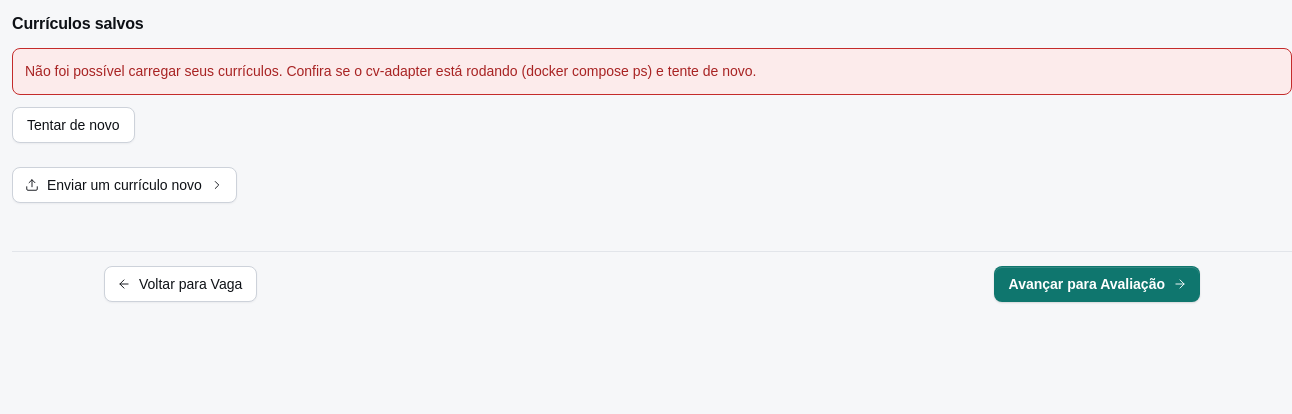
Test case: ResumeStep › should explain the failure without the payload and load again on retry
expect the message shows "Não foi possível carregar seus currículos.": met, box x1=25 y1=63 x2=756 y2=79
Step 1. Click the button "Tentar de novo" → click(73, 125), box x1=12 y1=107 x2=135 y2=143
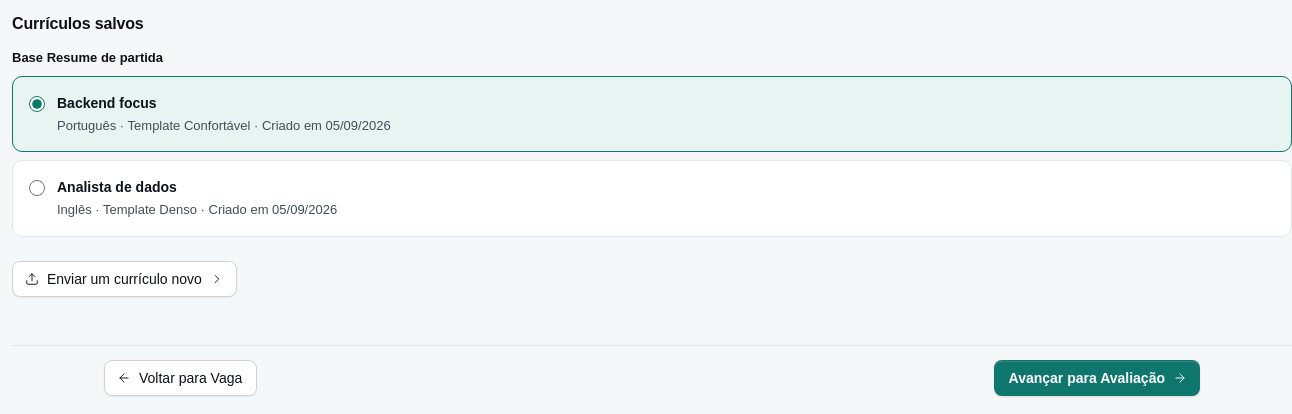
expect the message "Não foi possível carregar seus currículos. Confira se o cv-adapter está rodando" is gone: met
expect the radio button labelled "Backend focus" is checked: met, box x1=29 y1=96 x2=45 y2=112
